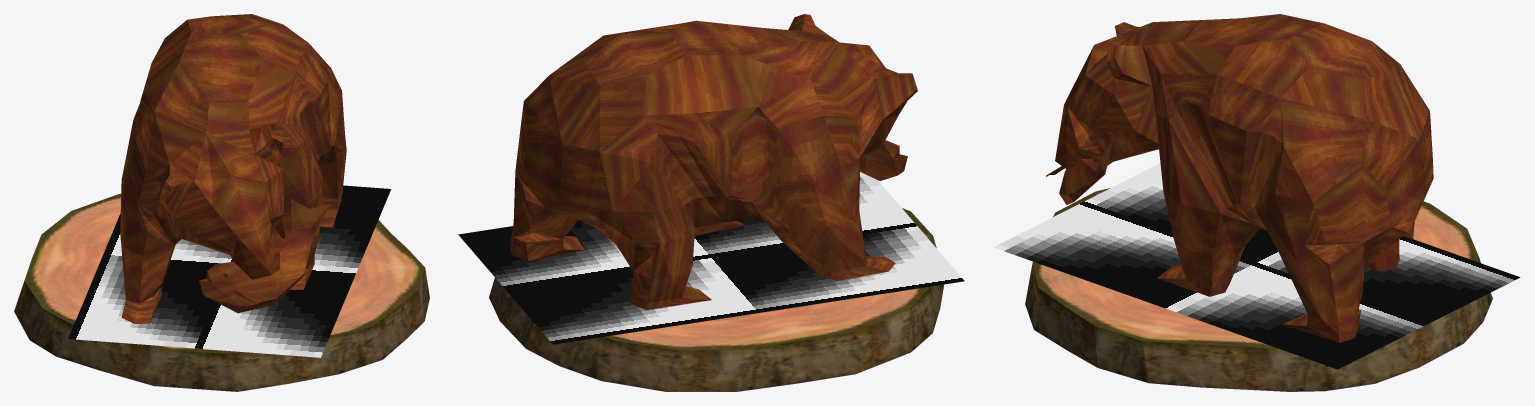
The model's file is kumakibori.dae.
3 renders of one model, left to right at view 1: azimuth 30°, elevation 25°; view 2: azimuth 150°, elevation 25°; view 3: azimuth 270°, elevation 25°, orthographic. The views are drawn at different scales.
Visible parts, largest first — view 1: m1, m0, m2; view 2: m1, m2, m0; view 3: m1, m2, m0.
Part boxes in pixels (box(x1,y1,x2,y2)): m1: box(120, 14, 346, 323); m0: box(14, 193, 429, 391); m2: box(68, 185, 391, 357); m1: box(510, 14, 917, 309); m2: box(458, 172, 964, 344); m0: box(489, 208, 943, 391); m1: box(1046, 14, 1433, 342); m2: box(993, 163, 1520, 369); m0: box(1025, 188, 1492, 391).
Bounding box in the file's own units: 106 × 63.59 × 110.
Materials: 3 (3 with a texture image).
